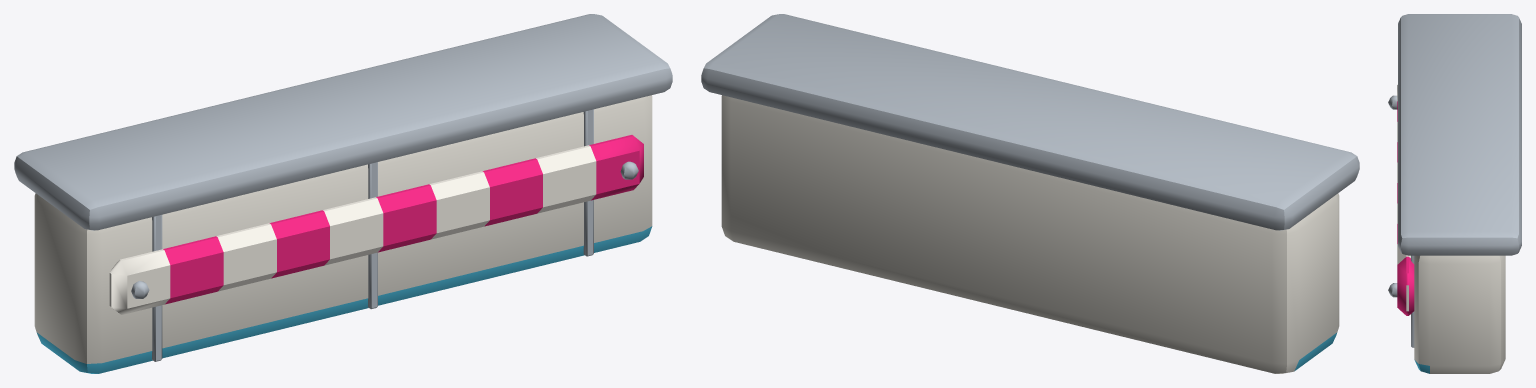
File: H01_Wall.fbx
The picture shows the model from 3 angles, left to right: view 1: azimuth 30°, elevation 25°; view 2: azimuth 150°, elevation 25°; view 3: azimuth 270°, elevation 25°; orthographic projection. The views are drawn at different scales.
Visible parts, largest first — view 1: H01_Wall; view 2: H01_Wall; view 3: H01_Wall.
Boxes of the visible parts, left/top/right/bottom form: H01_Wall: left=14, top=14, right=672, bottom=373; H01_Wall: left=701, top=14, right=1359, bottom=373; H01_Wall: left=1388, top=14, right=1521, bottom=373.
Bounding box in the file's own units: 4.1 × 1.24 × 1.03.
